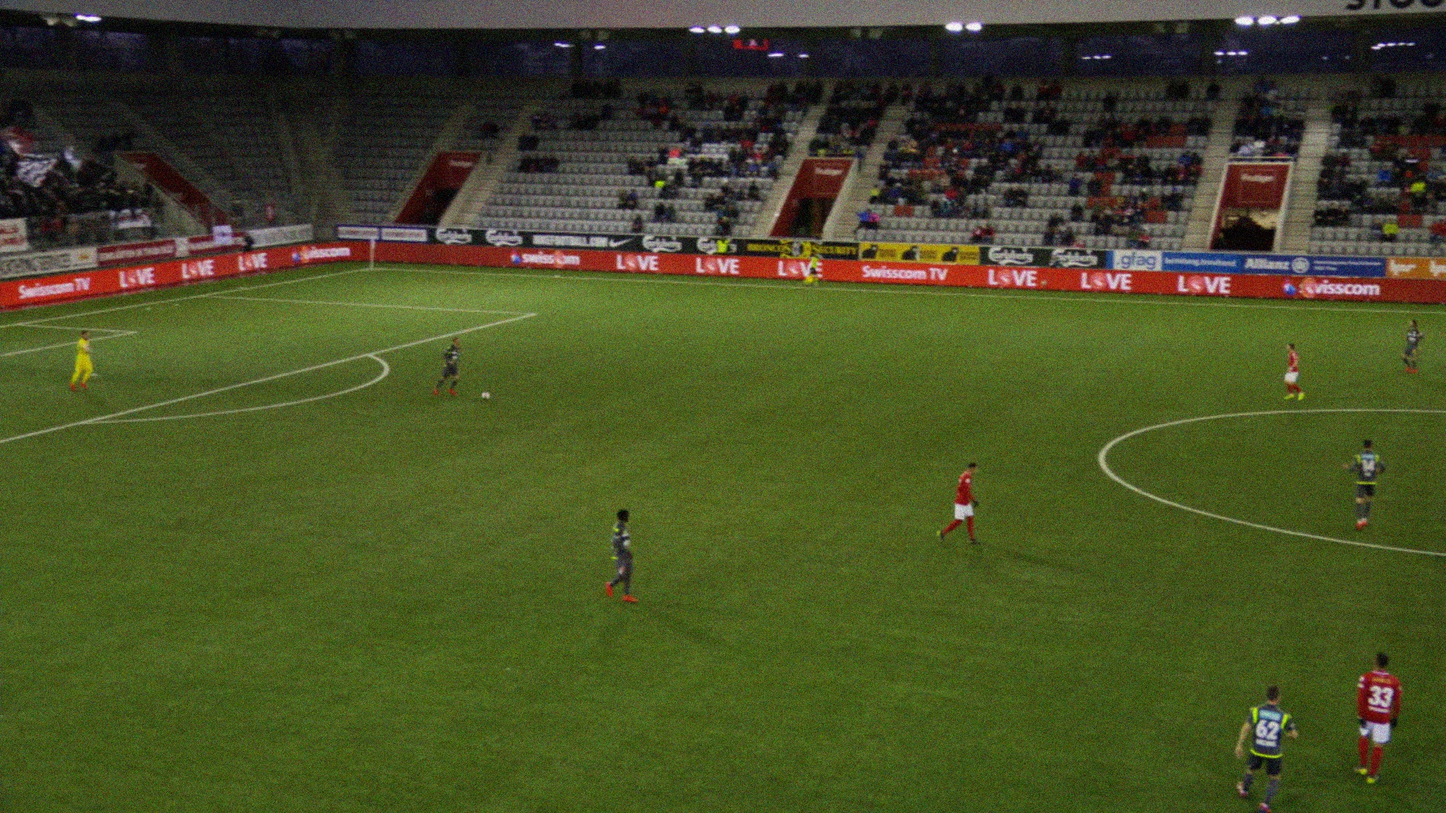ball: (481, 391, 488, 398)
goalkeeper: (72, 330, 97, 391)
player: (1237, 682, 1301, 806), (1352, 650, 1402, 785), (937, 461, 987, 547), (1341, 438, 1387, 530), (609, 507, 645, 602), (432, 336, 464, 396), (1282, 341, 1305, 400), (1402, 318, 1424, 376)
referee: (807, 255, 823, 288)
